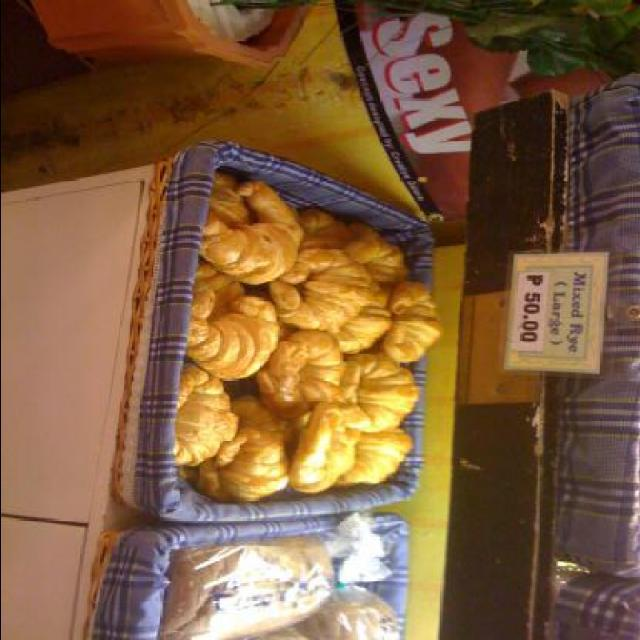Croissant: (172, 171, 442, 503), (196, 190, 302, 282)
